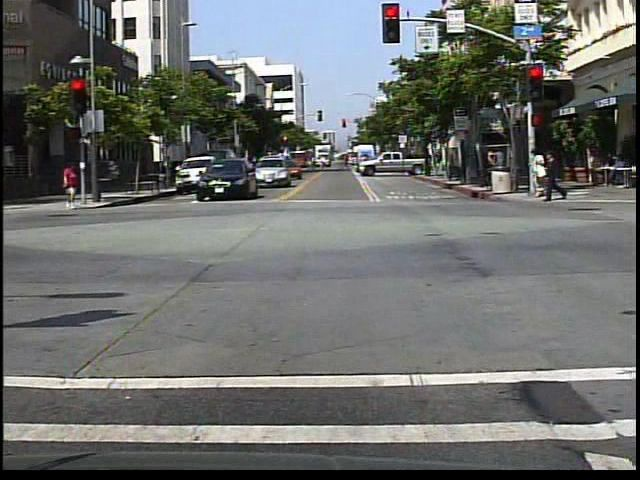person: (540, 148, 567, 206), (61, 160, 82, 213), (529, 146, 547, 201)
